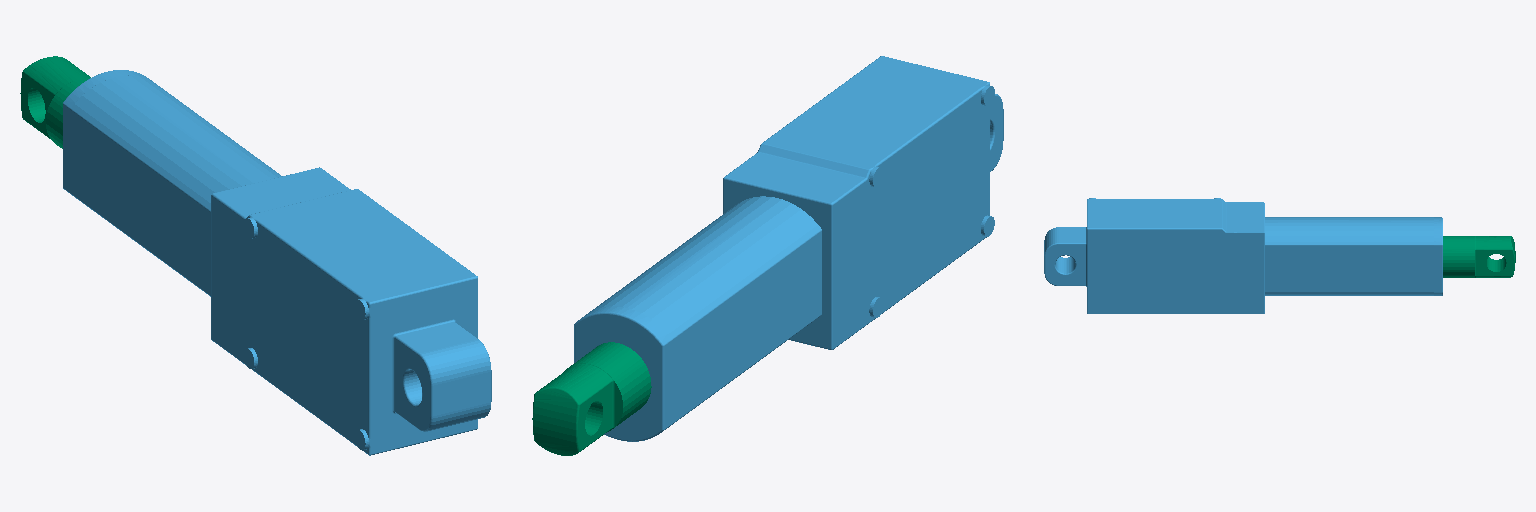
The robot description file, URDF, robot "linear_actuator":
<?xml version="1.0" ?>


<robot name="linear_actuator">

    <!-- colors -->

    <gazebo reference="arm">
         <material>Gazebo/Black</material>
    </gazebo>

    <gazebo reference="base">
         <material>Gazebo/Orange</material>
    </gazebo>

    <link name="world"/>

  <joint name="fixed" type="fixed">
  <origin rpy="0 0 0" xyz="0 0.0 0.5" />
    <parent link="world"/>
    <child link="base"/>
  </joint>

 
   
    <link name ="base" >
    
      <inertial>
      
          <origin xyz="0 0 0.09" rpy="0 0 0" />
         
          <mass value="1.8"/>
      
            <inertia 
              ixx="0.108" 
              ixy="0" 
              ixz="0" 
              iyy="0.108" 
              iyz="0" 
              izz="0.054"
            />
        </inertial>
        


      <visual >

          <geometry>
              <mesh
         
                  filename="package://robot_description/models/linear_actuator/STL/base.stl"
                  scale = "0.01 0.01 0.01"
                  
              />
          
          </geometry>
     
        
      
      </visual>
      <collision name='collision_base_link'>
    
          <geometry>
            <mesh

                filename="package://robot_description/models/linear_actuator/STL/base.stl"
                scale = "0.01 0.01 0.01"
            />
       
          </geometry>
          
      </collision>
    </link>

    <link name ="arm" >
 
        <inertial>
        <origin xyz="0 0 0.09" rpy="0 0 0" />
            <mass value="1.8"/>
        <inertia 
            ixx="0.108" 
            ixy="0" 
            ixz="0" 
            iyy="0.108" 
            iyz="0" 
            izz="0.054"
        />
        </inertial>

        <visual>

            <geometry>
                <mesh
                    filename="package://robot_description/models/linear_actuator/STL/arm.stl"
                    scale = "0.01 0.01 0.01"
                />
           
            </geometry>
      
           
      
        </visual>
        <collision name='collision_arm_link'>
    
            <geometry>
                <mesh
                        filename="package://robot_description/models/linear_actuator/STL/arm.stl"
                        scale = "0.01 0.01 0.01"
                />
            
            </geometry>
        </collision>
    </link>

    <joint name="arm_base" type="prismatic">
        <origin rpy="0 0 0" xyz="0 0.6 0" />
        
        <parent link="base"/>
        <child link ="arm"/>
        
        <axis xyz="0 1 0"/>
        <limit  effort="1000" 
                lower="0" 
                upper="0.2" 
                velocity="2" />
             
        />
        <dynamics damping="0.1"/>
    </joint>  


    <!-- plugin -->
      <gazebo>
    <plugin name="gazebo_ros_control" filename="libgazebo_ros_control.so">
        <!-- <robotNameSpace>/linear_actuator</robotNameSpace> -->
        <robotSimType>gazebo_ros_control/DefaultRobotHWSim</robotSimType>
    </plugin>
      </gazebo>

     <!-- transmission -->
    <transmission name="lift_transmission">
        <type>transmission_interface/SimpleTransmission</type>
        <joint name="arm_base">
          <hardwareInterface>PositionJointInterface</hardwareInterface>
        </joint>  
        <actuator name="lift_motor">
          <hardwareInterface>PositionJointInterface</hardwareInterface>
          <mechanicalReduction>1</mechanicalReduction>
        </actuator>
    </transmission>

 
 


</robot>

--- Render facts (derived) ---
The picture shows the robot from 3 angles, left to right: view 1: azimuth 30°, elevation 25°; view 2: azimuth 150°, elevation 25°; view 3: azimuth 270°, elevation 25°; orthographic projection.
Model linear_actuator with 3 links and 2 joints (1 prismatic, 1 fixed), rooted at world, posed all joints at 0.
Links seen in each view (by area): view 1: base, arm; view 2: base, arm; view 3: base, arm.
Link boxes in pixels (<box>): base: <box>63,70,491,455</box>; arm: <box>20,56,90,148</box>; base: <box>574,56,1003,441</box>; arm: <box>532,342,651,455</box>; base: <box>1044,198,1442,313</box>; arm: <box>1443,236,1515,277</box>.
Size in the robot's own frame: 0.155 by 0.9909 by 0.2 metres.
Meshes: 2 distinct files referenced, 2 mesh visuals loaded (2 binary STL).